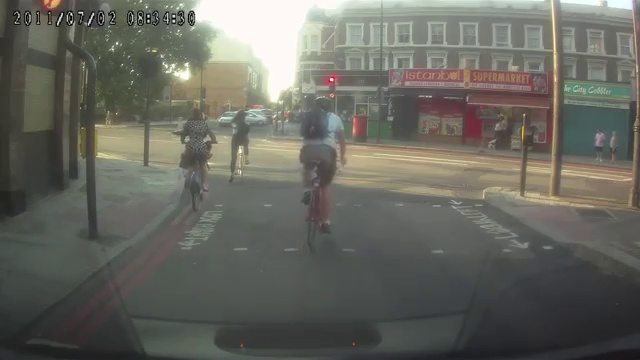cyclist_back: (296, 92, 342, 257), (175, 103, 213, 217), (229, 105, 254, 189)
